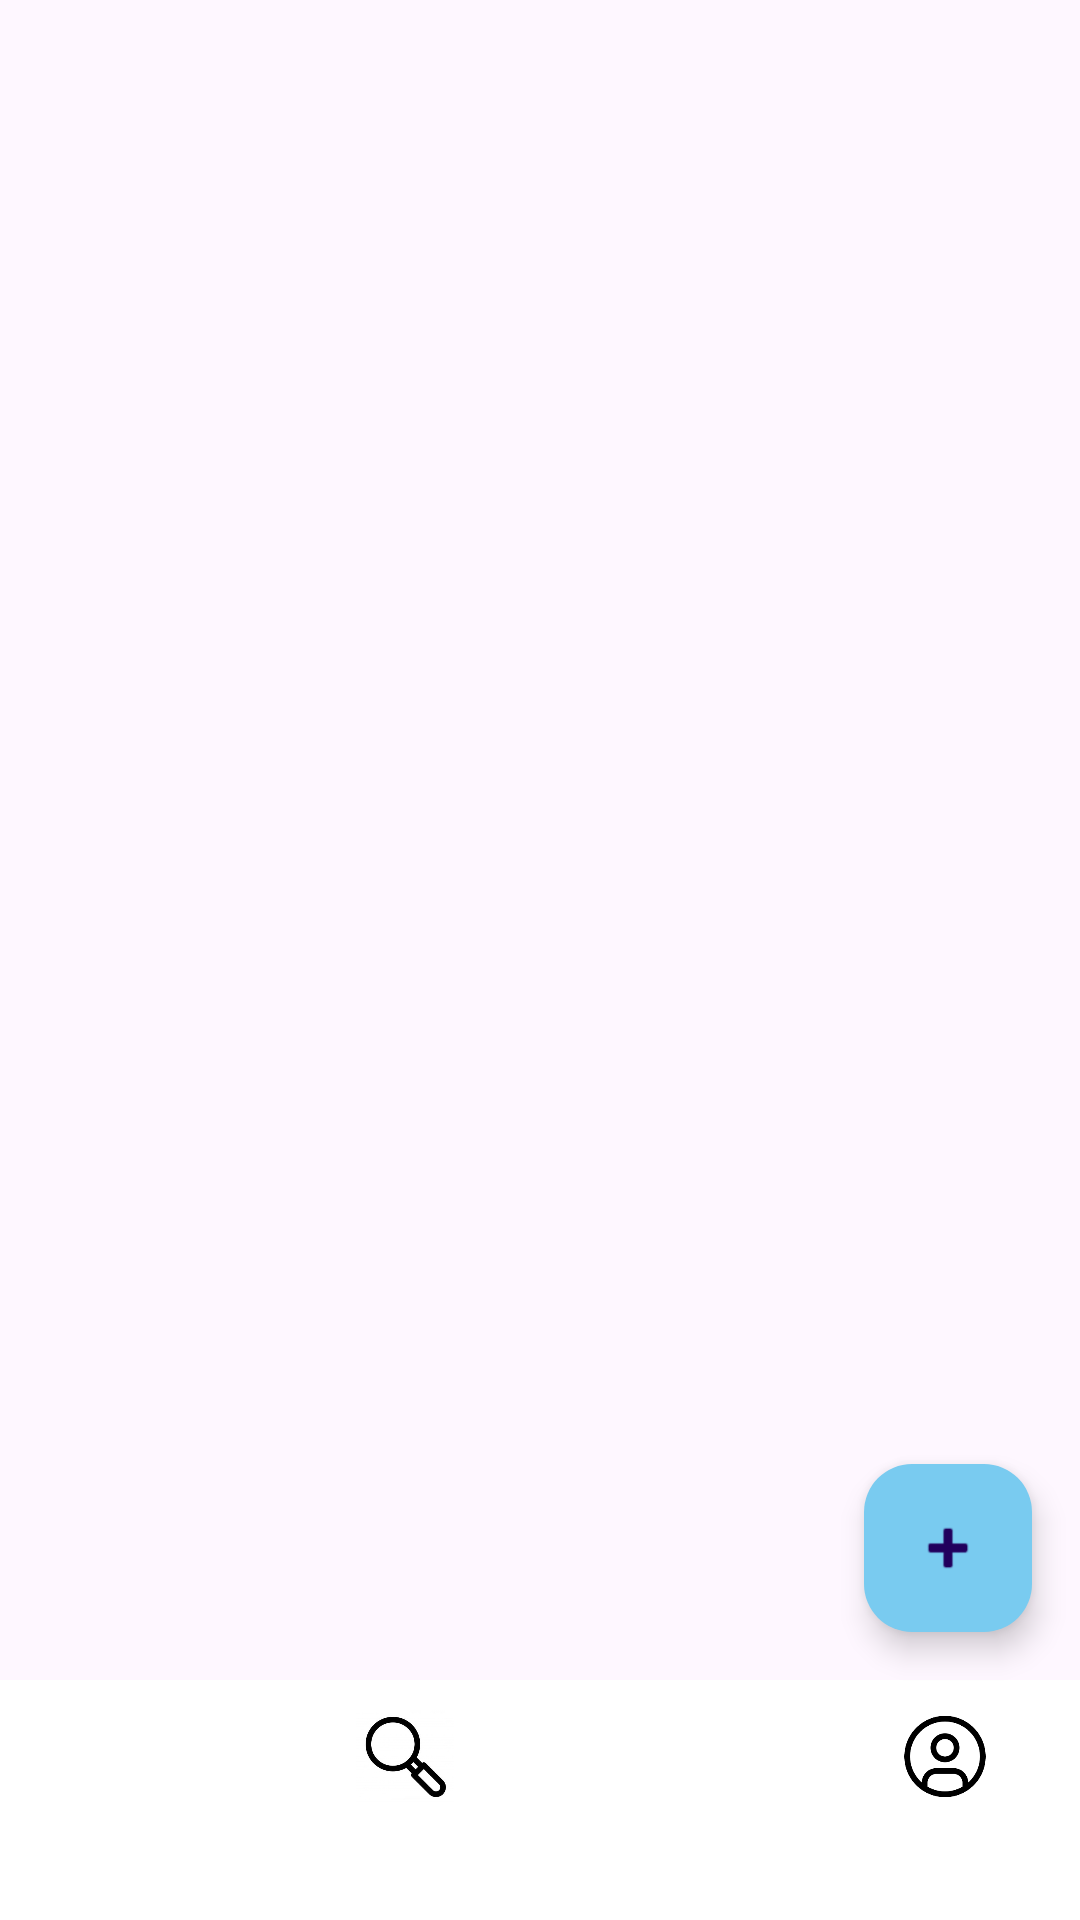

Point at icon controls on the screen. Image size 1080 x 1920, points as (x,y).
個人頁面: (945,1756)
搜尋功能: (406,1757)
新增行程: (948,1548)
